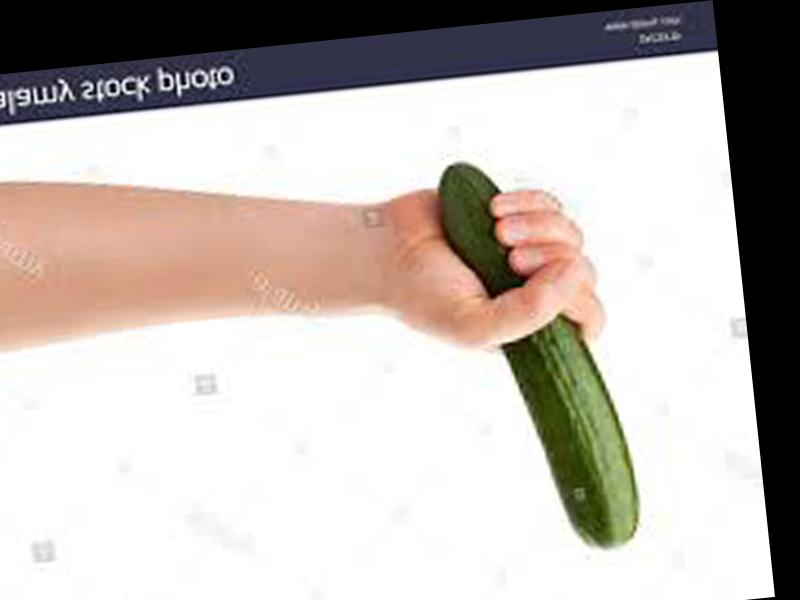Cucumber: (438, 149, 644, 561)
